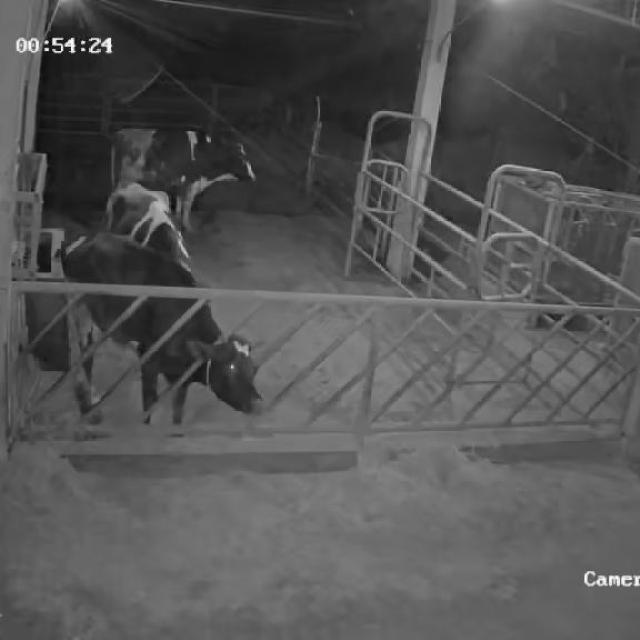feeding: (50, 222, 268, 438)
standing: (109, 119, 265, 233), (104, 173, 192, 268)
